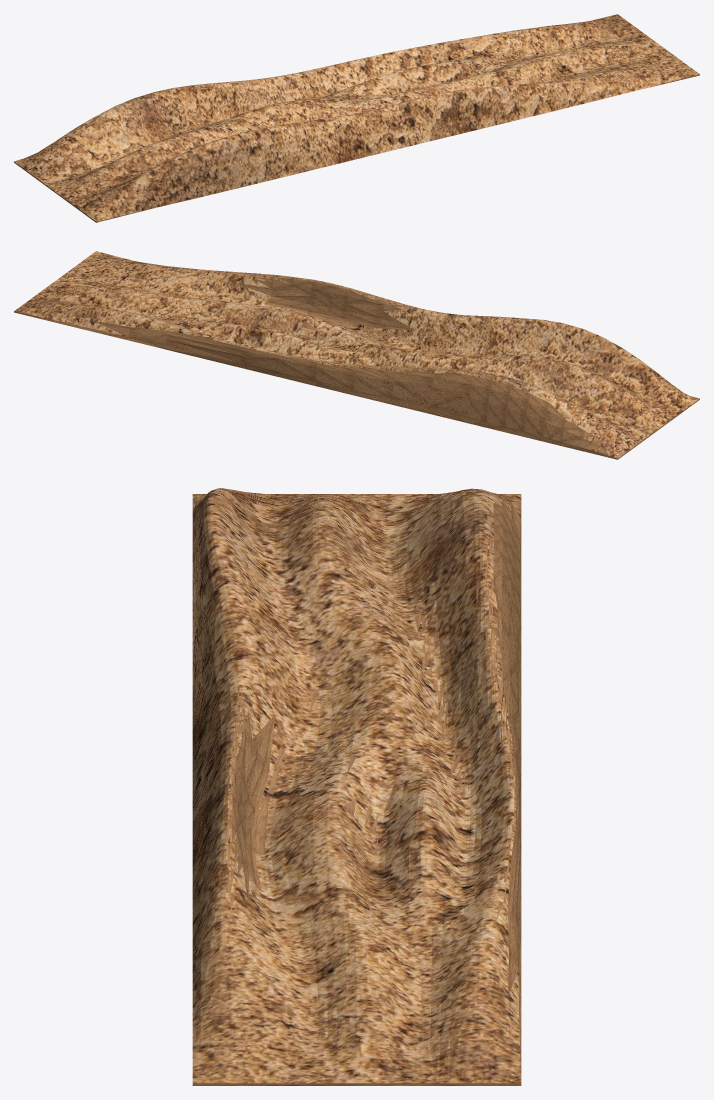
File: floor_feature.dae
3 views of the same model, one above another, from view 1: azimuth 30°, elevation 25°; view 2: azimuth 150°, elevation 25°; view 3: azimuth 270°, elevation 25° (orthographic). The views are drawn at different scales.
Parts seen in each view (by area): view 1: base_link; view 2: base_link; view 3: base_link.
Part boxes in pixels (x1,y1,x2,y2): base_link: [14, 14, 699, 222]; base_link: [14, 251, 699, 459]; base_link: [192, 488, 521, 1085].
Bounding box in the file's own units: 0.5 × 0.1179 × 0.0379.
